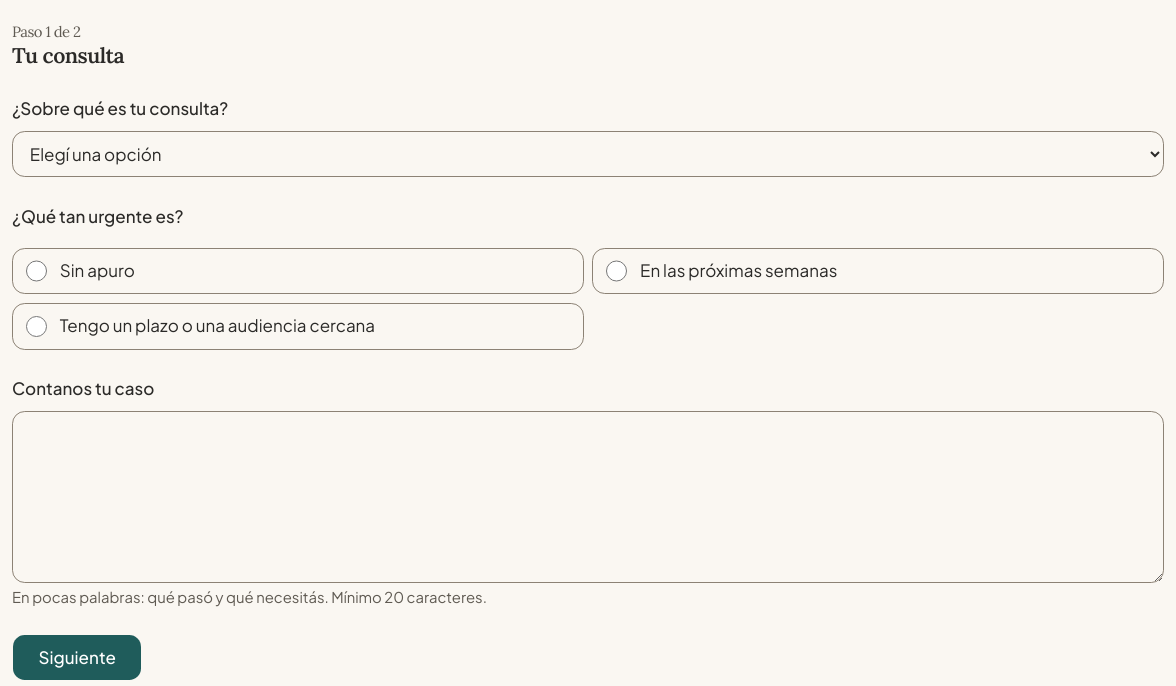
Test: InquiryForm (US-03) › safe contact questions (CA6, CA7) › asks whether the channel is safe only for phone and WhatsApp
The width and height of the screenshot is (1176, 686).
Step 1. Select "Divorcio" in the dropdown labelled "¿Sobre qué es tu consulta?" → {"x": 588, "y": 154}, box [12,131,1164,178]
Step 2. Click the radio button labelled "En las próximas semanas" → {"x": 617, "y": 271}, box [606,260,627,282]
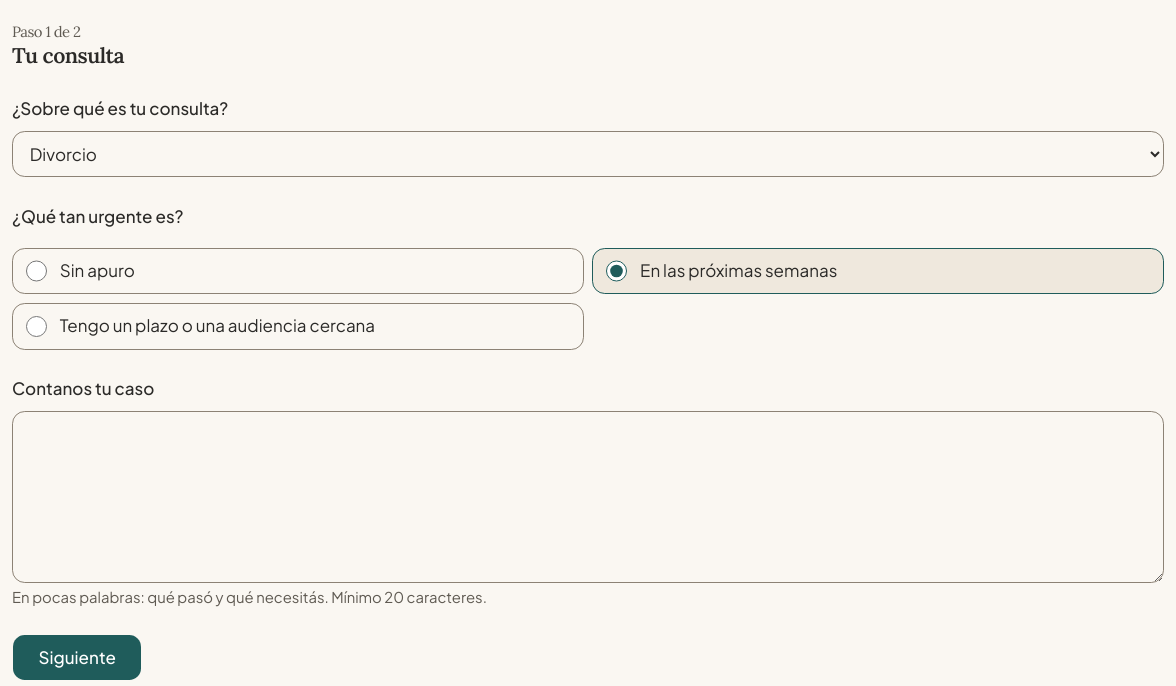
Step 3. Type "Nos estamos separando y queremos acordar el cuidado de los chicos." into the text box labelled "Contanos tu caso" → {"x": 588, "y": 497}, box [12,411,1164,583]
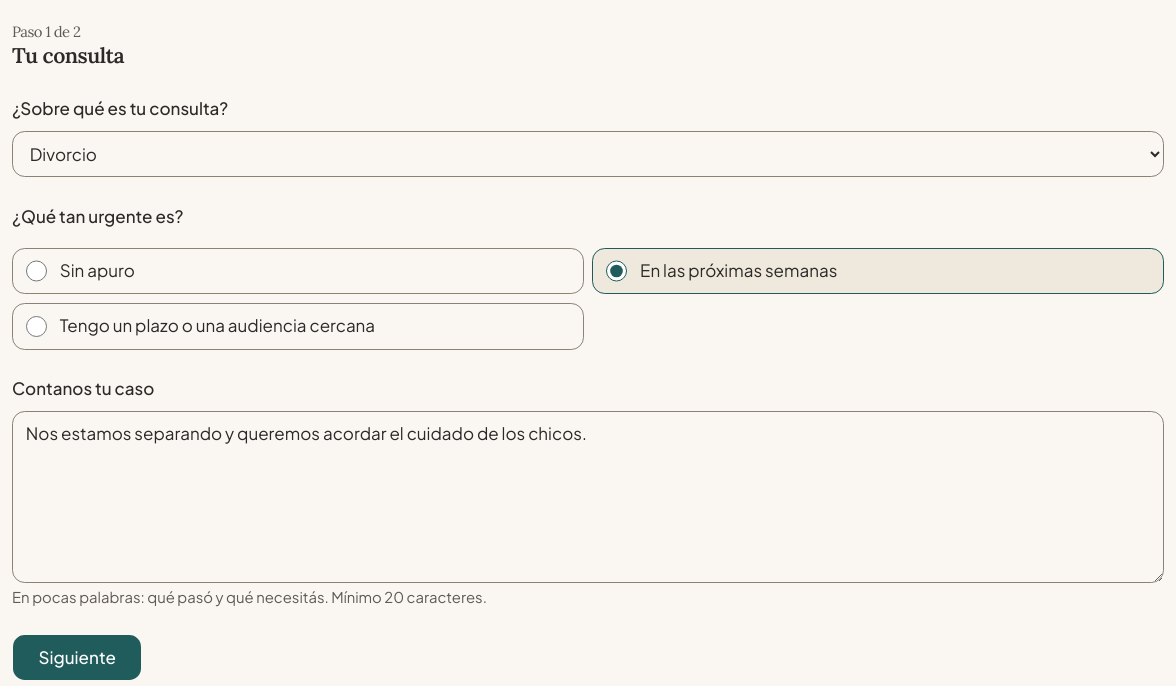
Step 4. Click the button "Siguiente" → {"x": 77, "y": 658}, box [12,634,142,681]
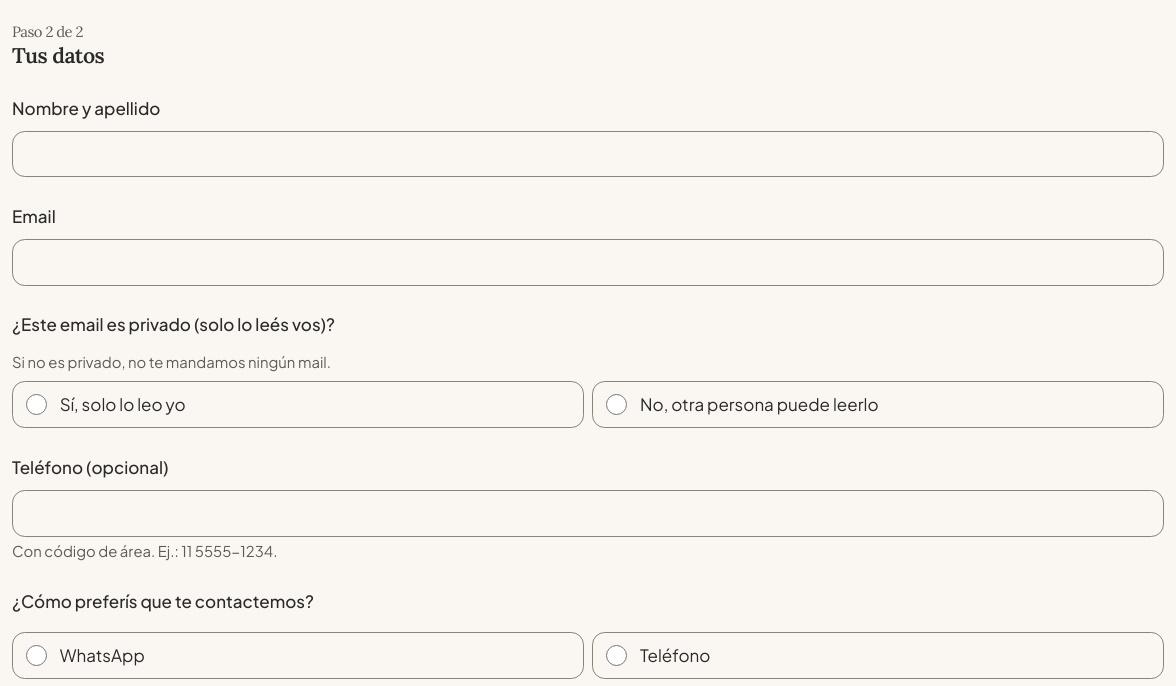
Expected: the text "¿Es seguro que te contactemos por ese medio?" is not shown
Step 5. Click the radio button labelled "Teléfono" → {"x": 617, "y": 656}, box [606,645,627,666]
(page scrolled)
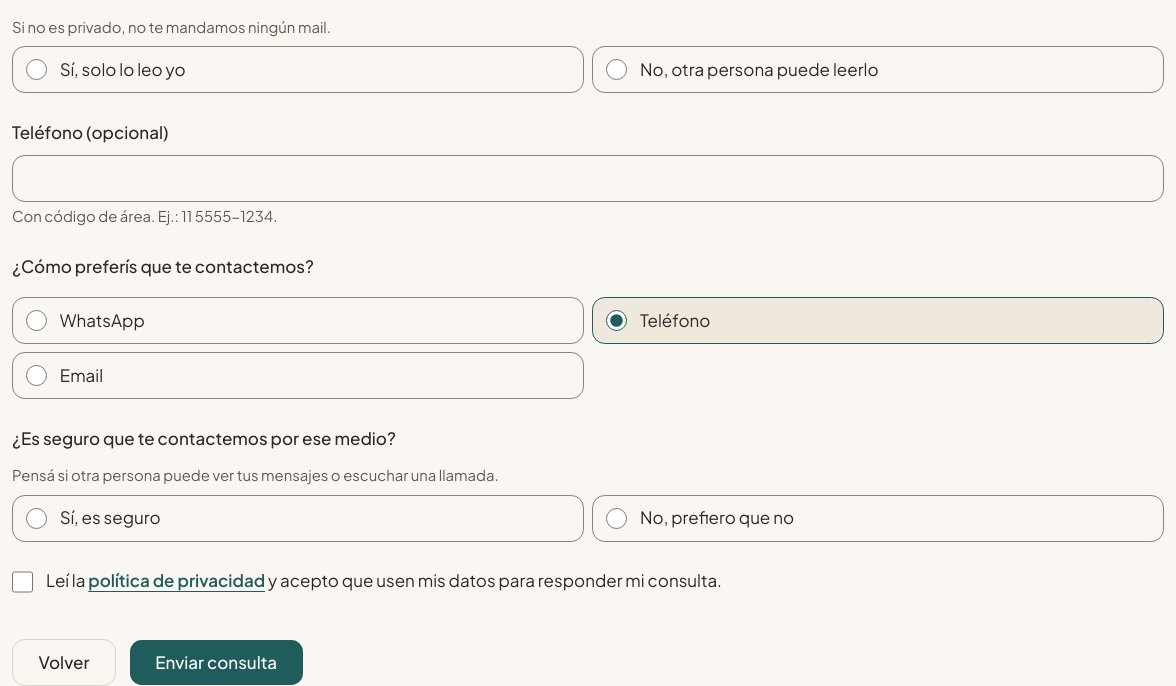
Expected: the text "¿Es seguro que te contactemos por ese medio?" is shown, [12,425,396,452]
Step 6. Click the radio button labelled "Email" → {"x": 36, "y": 376}, box [26,365,47,386]
(page scrolled)
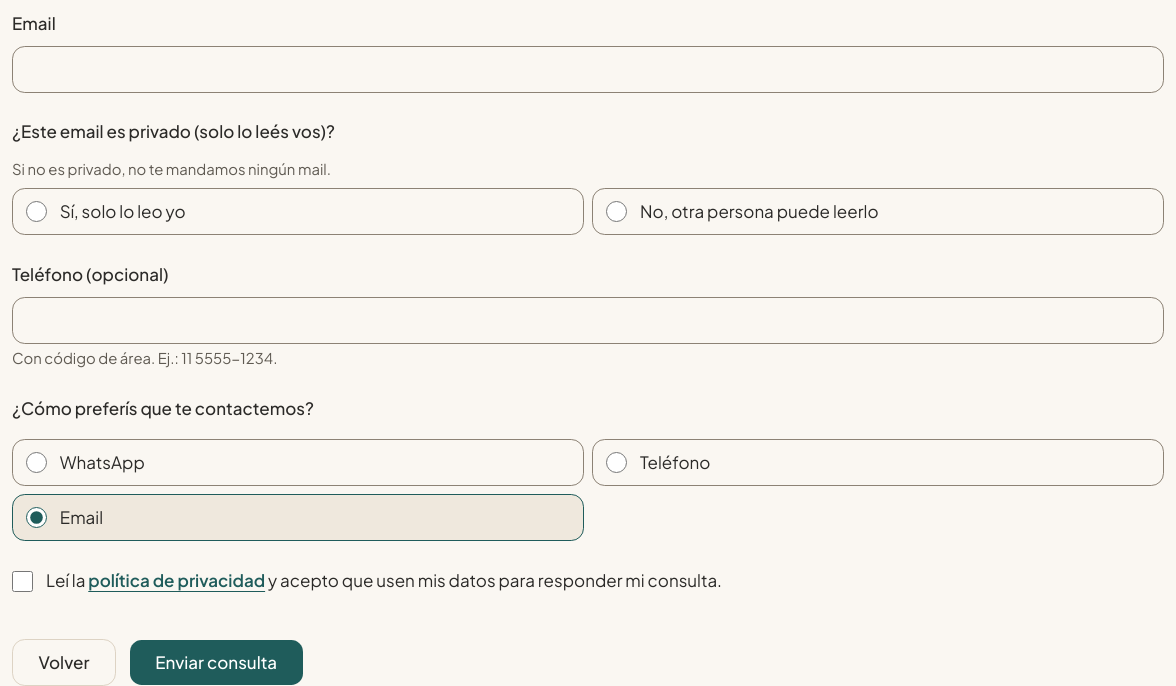
Expected: the text "¿Es seguro que te contactemos por ese medio?" is gone
Step 7. Click the radio button labelled "WhatsApp" → {"x": 36, "y": 463}, box [26,452,47,473]
(page scrolled)
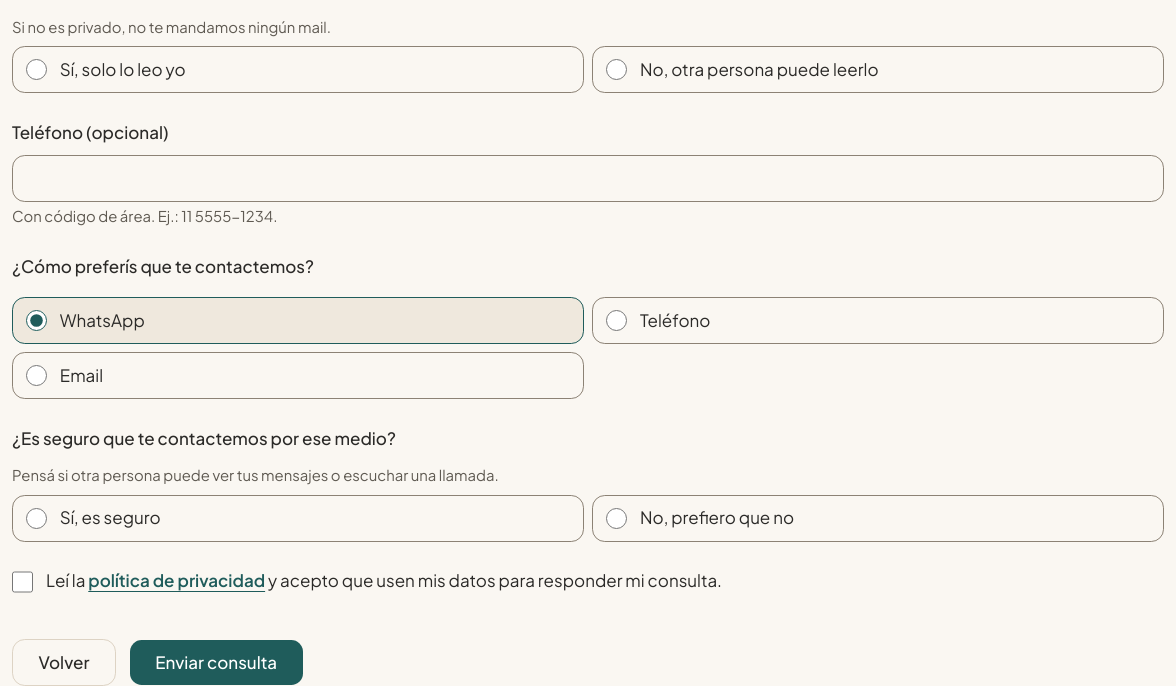
Expected: the text "¿Es seguro que te contactemos por ese medio?" is shown, [12,425,396,452]
